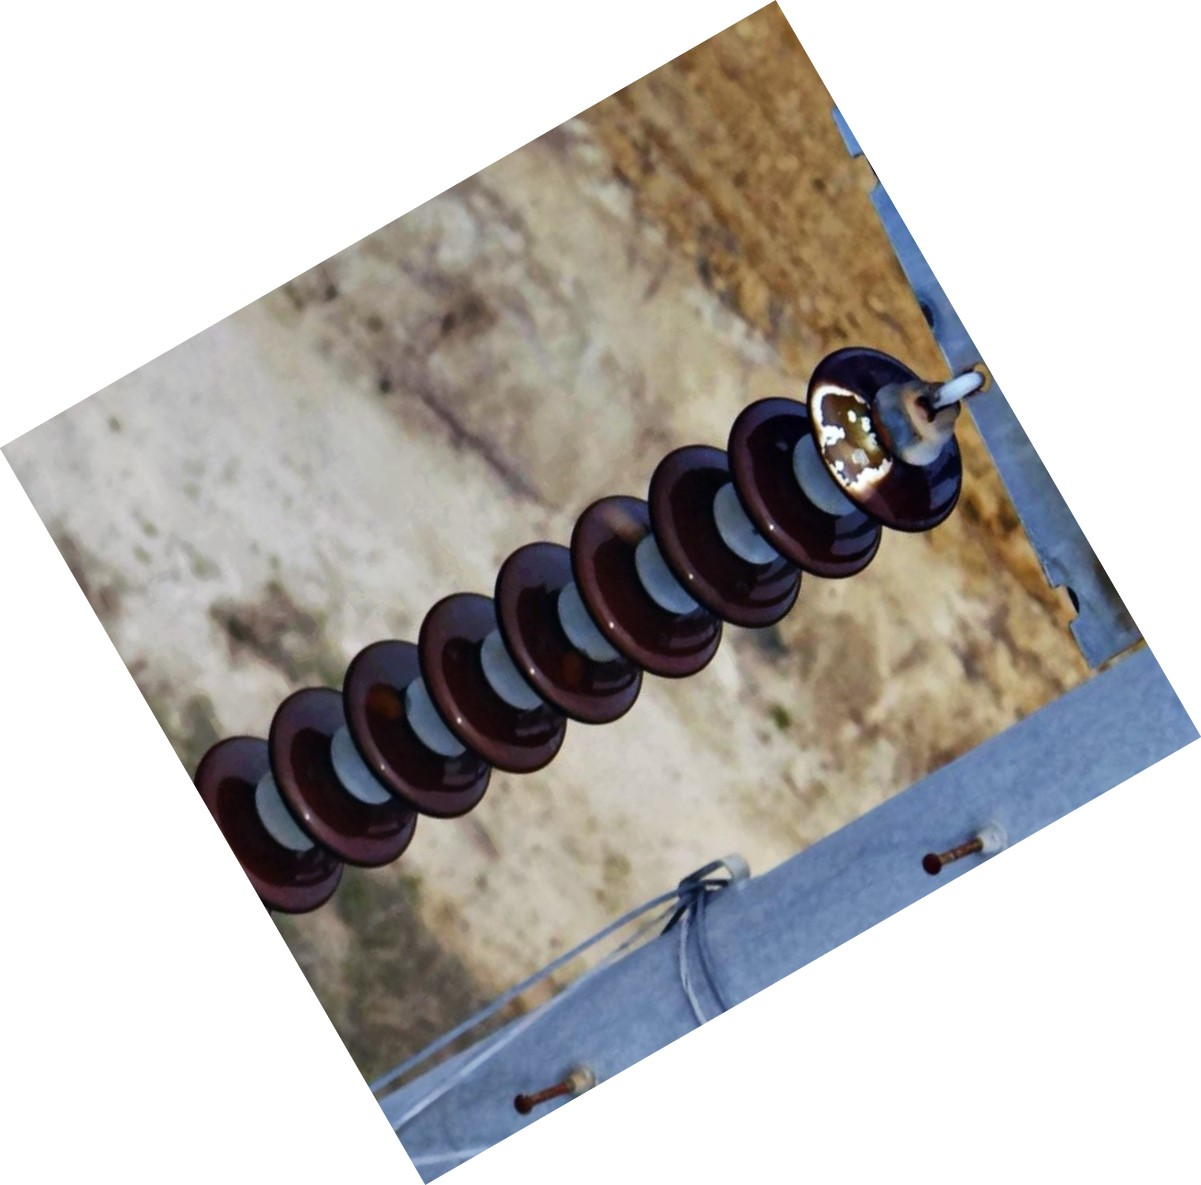Insulator flashover: (789, 337, 989, 535)
